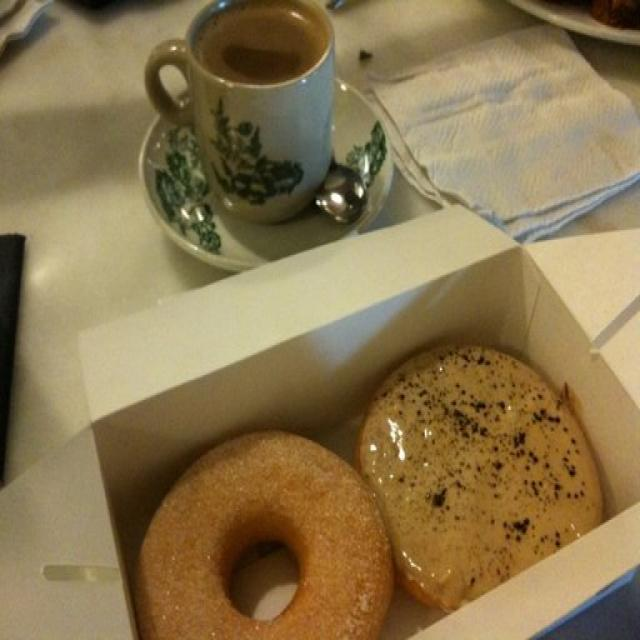Donuts: (76, 335, 640, 640)
